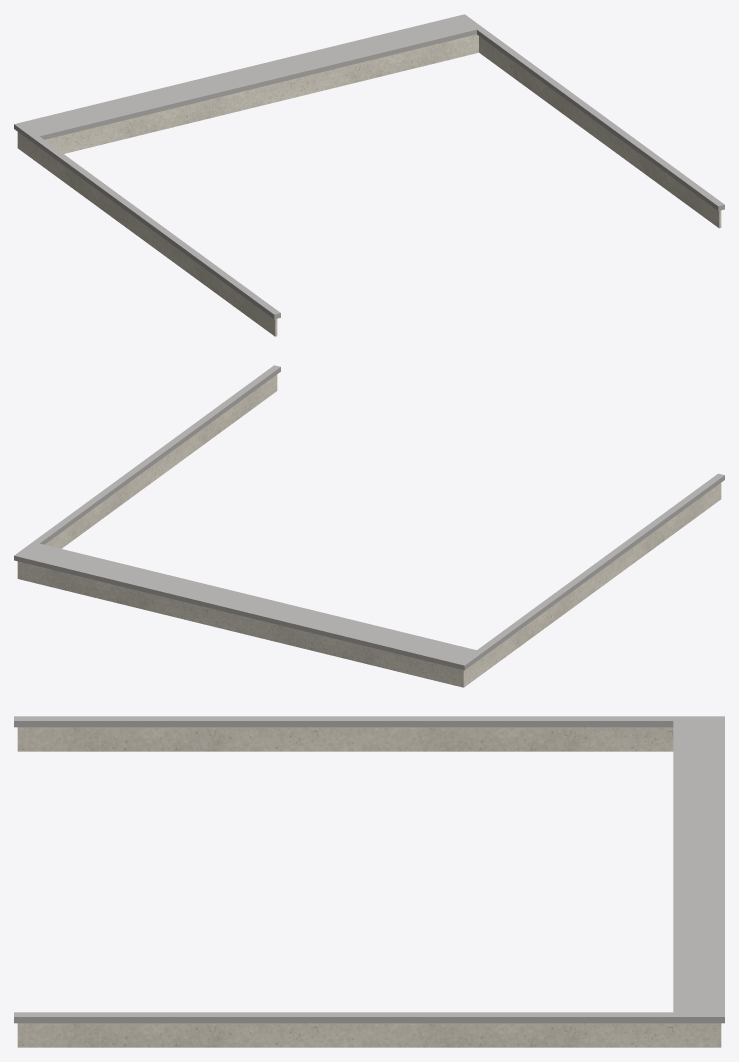
The model's file is roof_stair_core_192_192_29.glb.
3 views of the same model, one above another, from view 1: azimuth 30°, elevation 25°; view 2: azimuth 150°, elevation 25°; view 3: azimuth 270°, elevation 25° (orthographic). The views are drawn at different scales.
Parts seen in each view (by area): view 1: roof_stair_core_192_192_29_plaster, roof_stair_core_192_192_29_roof; view 2: roof_stair_core_192_192_29_roof, roof_stair_core_192_192_29_plaster; view 3: roof_stair_core_192_192_29_plaster, roof_stair_core_192_192_29_roof.
Boxes of the visible parts, <box> form: roof_stair_core_192_192_29_plaster: <box>17,34,721,336</box>; roof_stair_core_192_192_29_roof: <box>14,14,724,319</box>; roof_stair_core_192_192_29_roof: <box>14,365,724,670</box>; roof_stair_core_192_192_29_plaster: <box>17,374,721,687</box>; roof_stair_core_192_192_29_plaster: <box>17,727,721,1047</box>; roof_stair_core_192_192_29_roof: <box>14,716,724,1023</box>.
Bounding box in the file's own units: 4 × 0.2 × 4.
2 materials, 1 textured.
